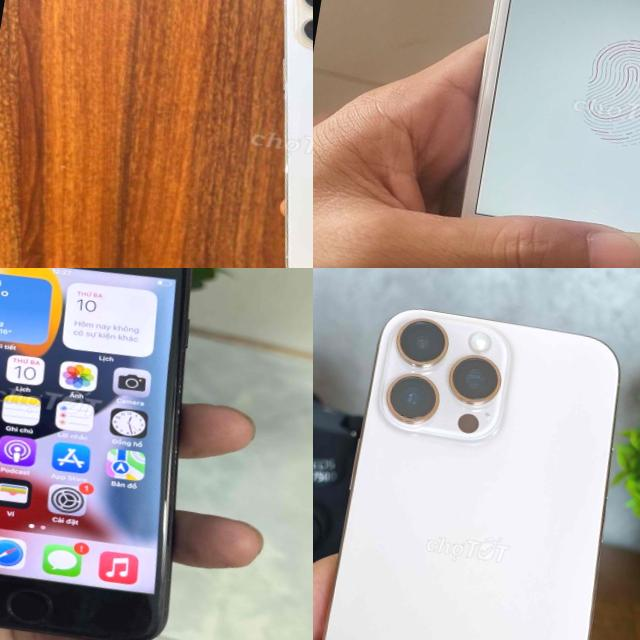gen_12_13: (232, 0, 313, 268)
gen_16: (323, 310, 618, 640)
gen_7_8: (0, 268, 233, 640), (430, 0, 640, 268)
